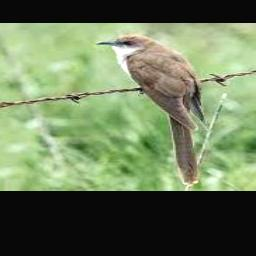Cuckoo: (96, 34, 207, 186)
